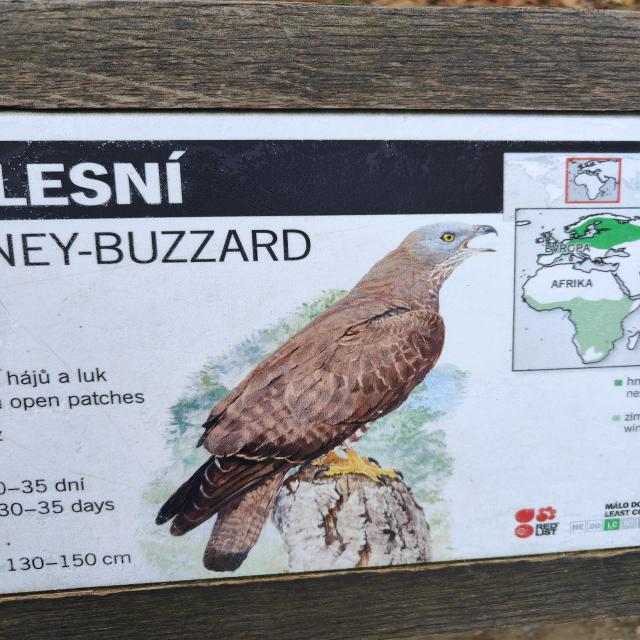bird: (155, 222, 500, 573)
